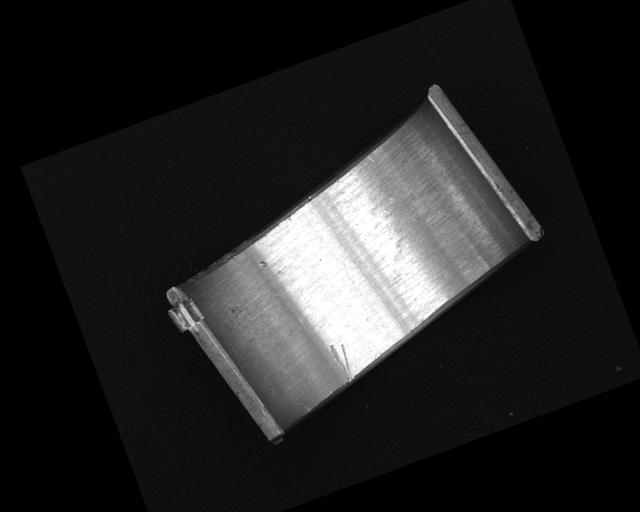bruise: (256, 257, 268, 270)
nick: (327, 339, 359, 384), (300, 400, 312, 415)
